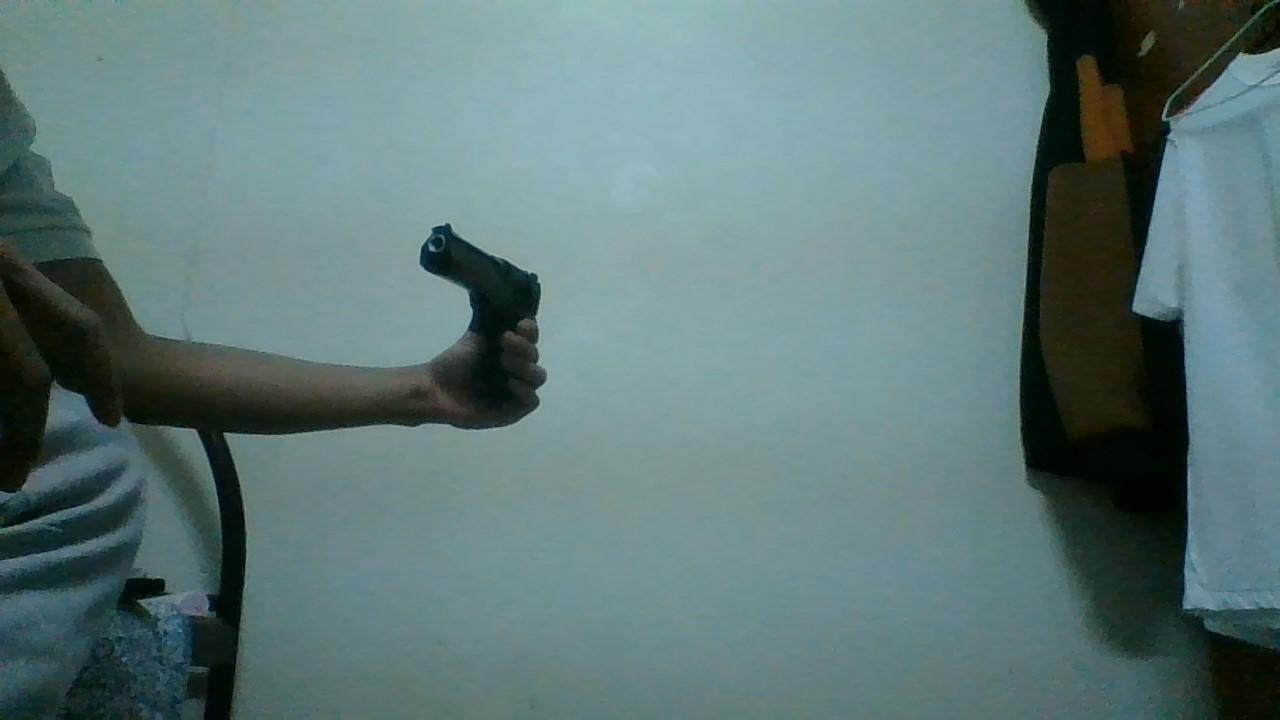weapon: (417, 217, 549, 350)
